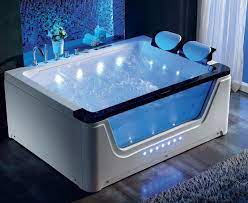bathub: (1, 29, 238, 192)
